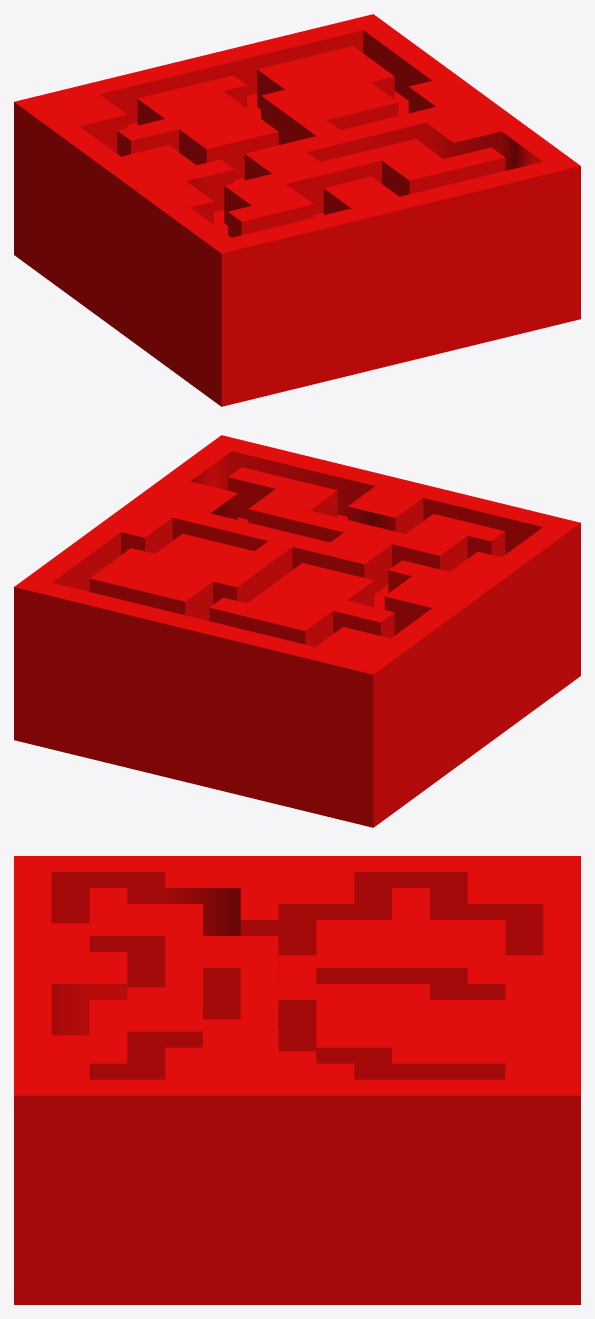
The model's file is maze2.glb.
The picture shows the model from 3 angles, top to bottom: view 1: azimuth 30°, elevation 25°; view 2: azimuth 150°, elevation 25°; view 3: azimuth 270°, elevation 25°; orthographic projection. The views are drawn at different scales.
Parts seen in each view (by area): view 1: pCube1; view 2: pCube1; view 3: pCube1.
Part boxes in pixels (x1,y1,x2,y2): pCube1: (14,14,580,406); pCube1: (14,435,580,827); pCube1: (14,856,580,1304).
Bounding box in the file's own units: 7.5 × 3.05 × 7.5.
Materials: 1 (1 with a texture image).
